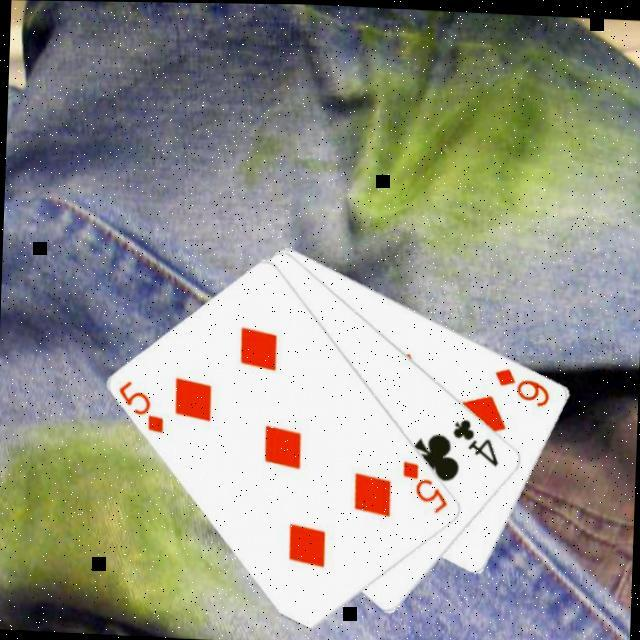4C: (447, 411, 503, 467)
5D: (396, 454, 452, 515), (113, 375, 168, 436)
6D: (490, 361, 553, 408)
